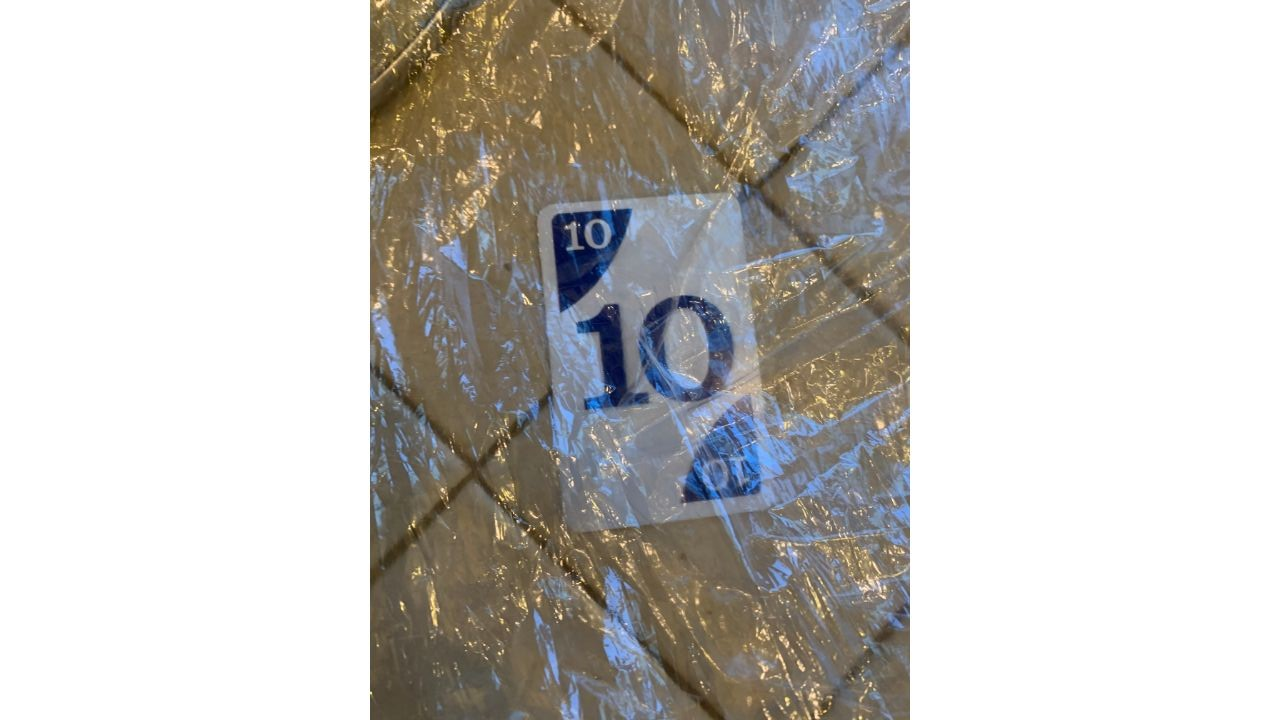ten: (535, 185, 786, 535)
